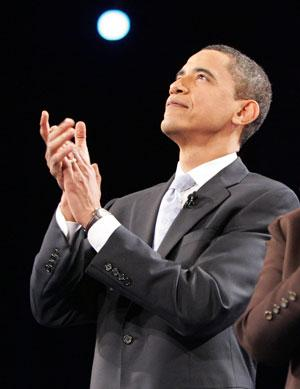person: (31, 43, 298, 389)
